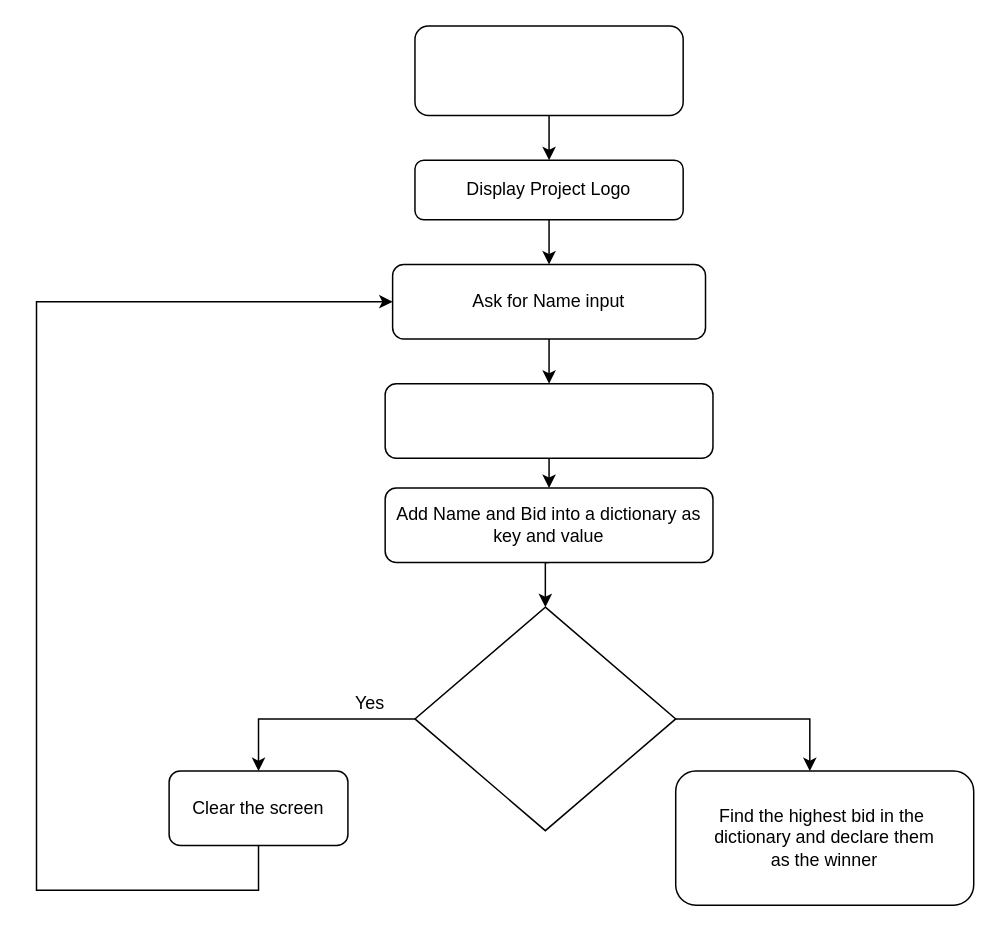
The diagram is 1000 pixels wide and 931 high, and some of its shapes have lost their labels. The shapes that lost their labels are listed below. From the top down, each one's centre as x and y in pixels, then its label:
At (x=548, y=70): "START".
At (x=548, y=420): "Ask for Bid Price".
At (x=544, y=718): "Ask if there are other users who want to bid".
